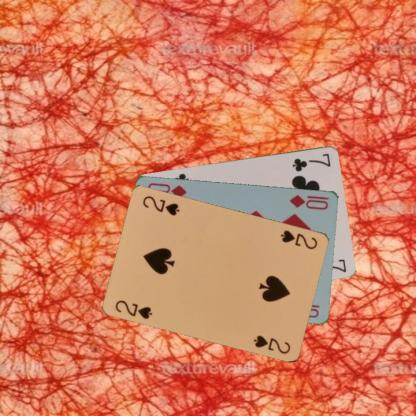10d: (287, 191, 331, 211)
2s: (278, 227, 319, 251), (112, 297, 154, 320)
7c: (290, 150, 332, 173)
